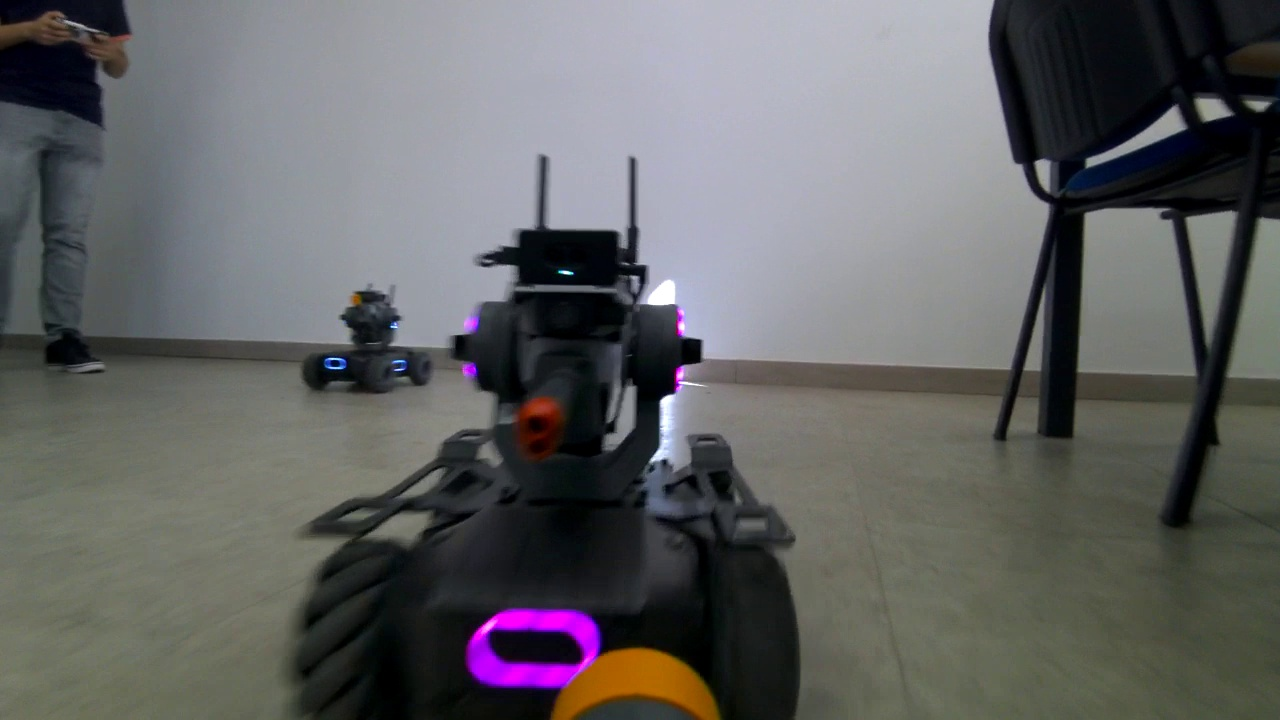robot: (323, 231, 805, 720), (302, 293, 440, 397)
